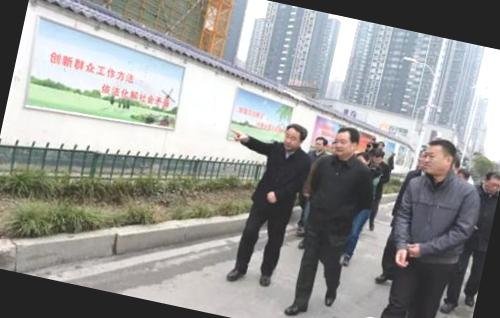no_helmet: (414, 132, 463, 185), (327, 122, 363, 162), (278, 120, 312, 152), (478, 168, 500, 203), (310, 135, 328, 157)
